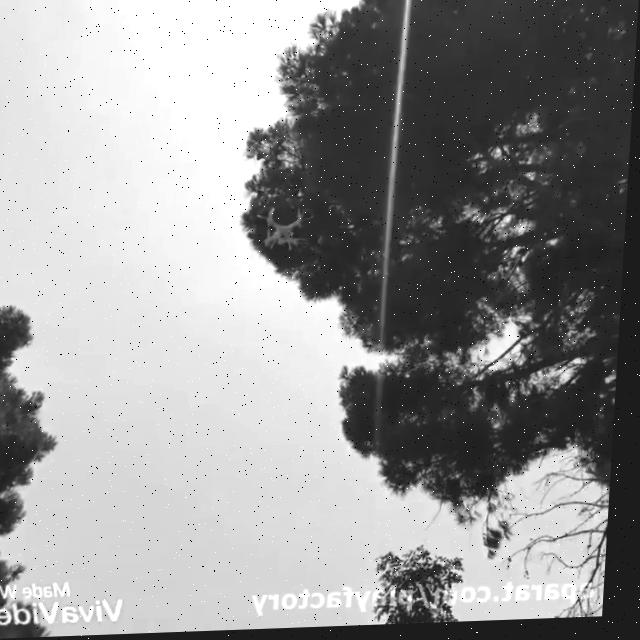drone: (257, 205, 321, 256)
